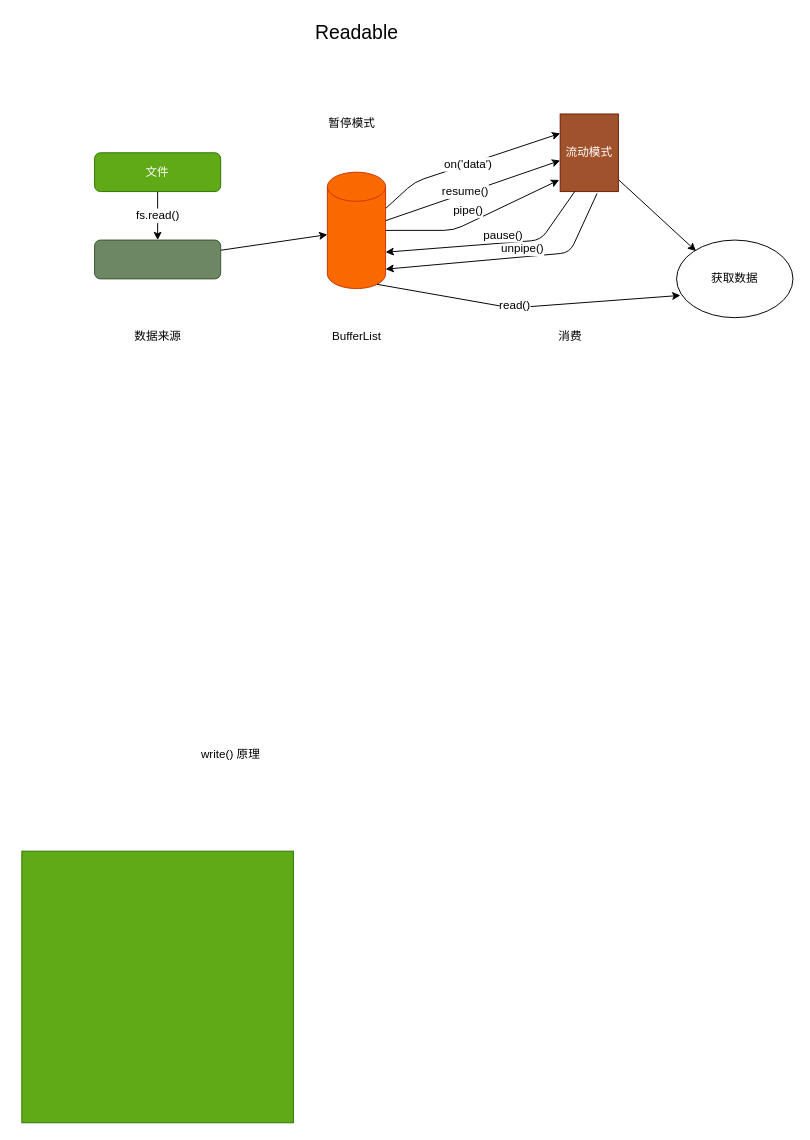
The diagram is 810 pixels wide and 1140 high, and some of its shapes have lost their labels. Here are the shapes that lost their labels. From the top down, the centre of each, then its label:
At point 157,259: "push()".
At point 157,986: "1、规格化参数（chunk, encoding, cb) 2、数据转 buffer 3、writeOrBuffer()".
